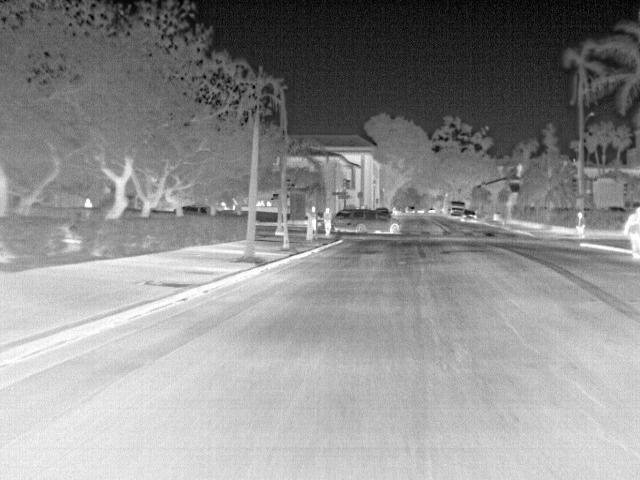car: (334, 207, 402, 238), (448, 200, 467, 218), (462, 209, 481, 222)
person: (619, 206, 640, 266), (574, 210, 588, 239), (323, 205, 335, 237), (310, 204, 322, 236), (80, 196, 95, 209)
